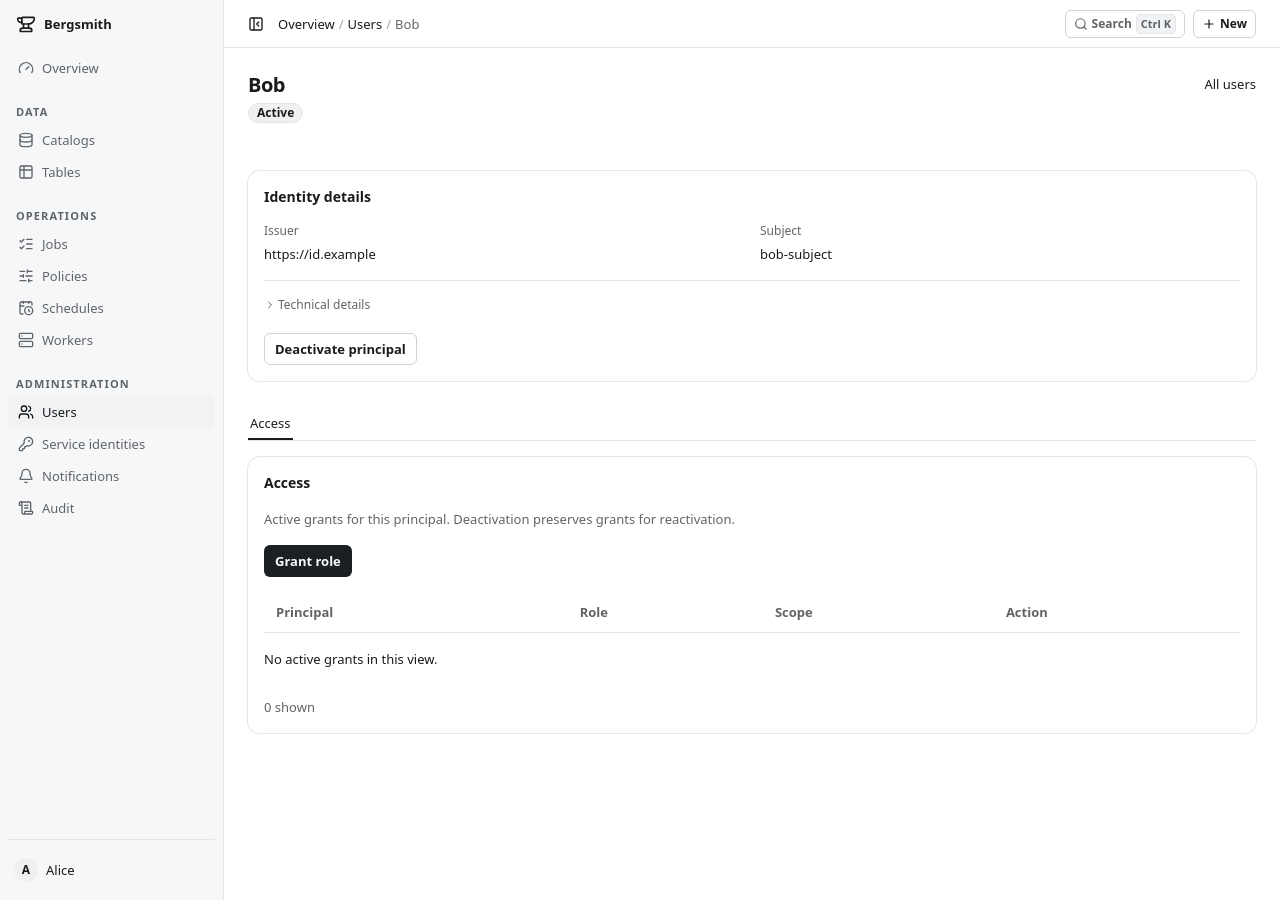
Test: requires confirmation for deactivation and preserves the last-administrator error
The width and height of the screenshot is (1280, 900).
expect the text "Technical details" is shown: met, box [264,280,1240,317]
Click the button "Deactivate principal": (340, 349) [264,333,417,365]
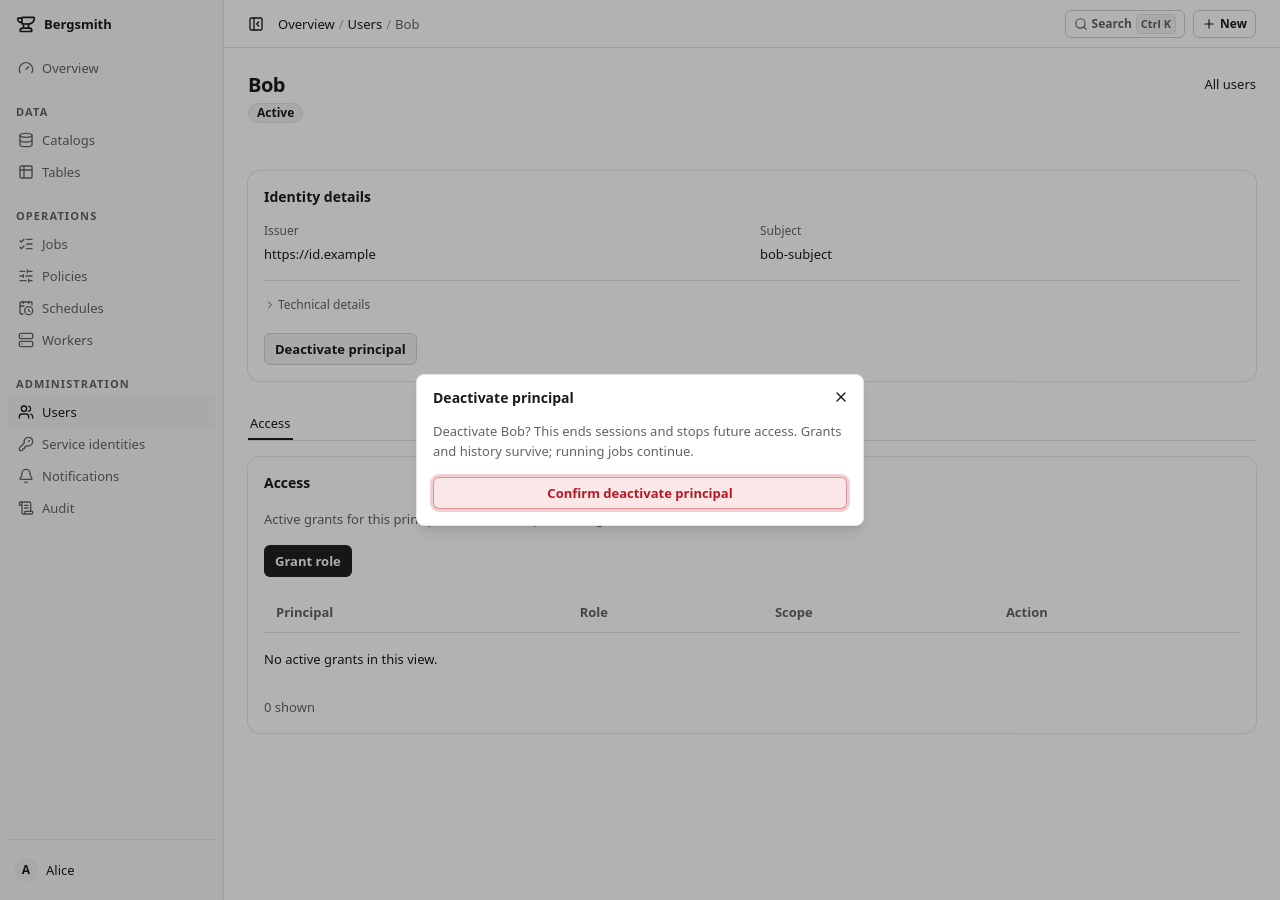
expect the dialog shows "running jobs continue": met, box [433,422,842,460]
Click the button "Confirm deactivate principal": (640, 493) [433,477,847,509]
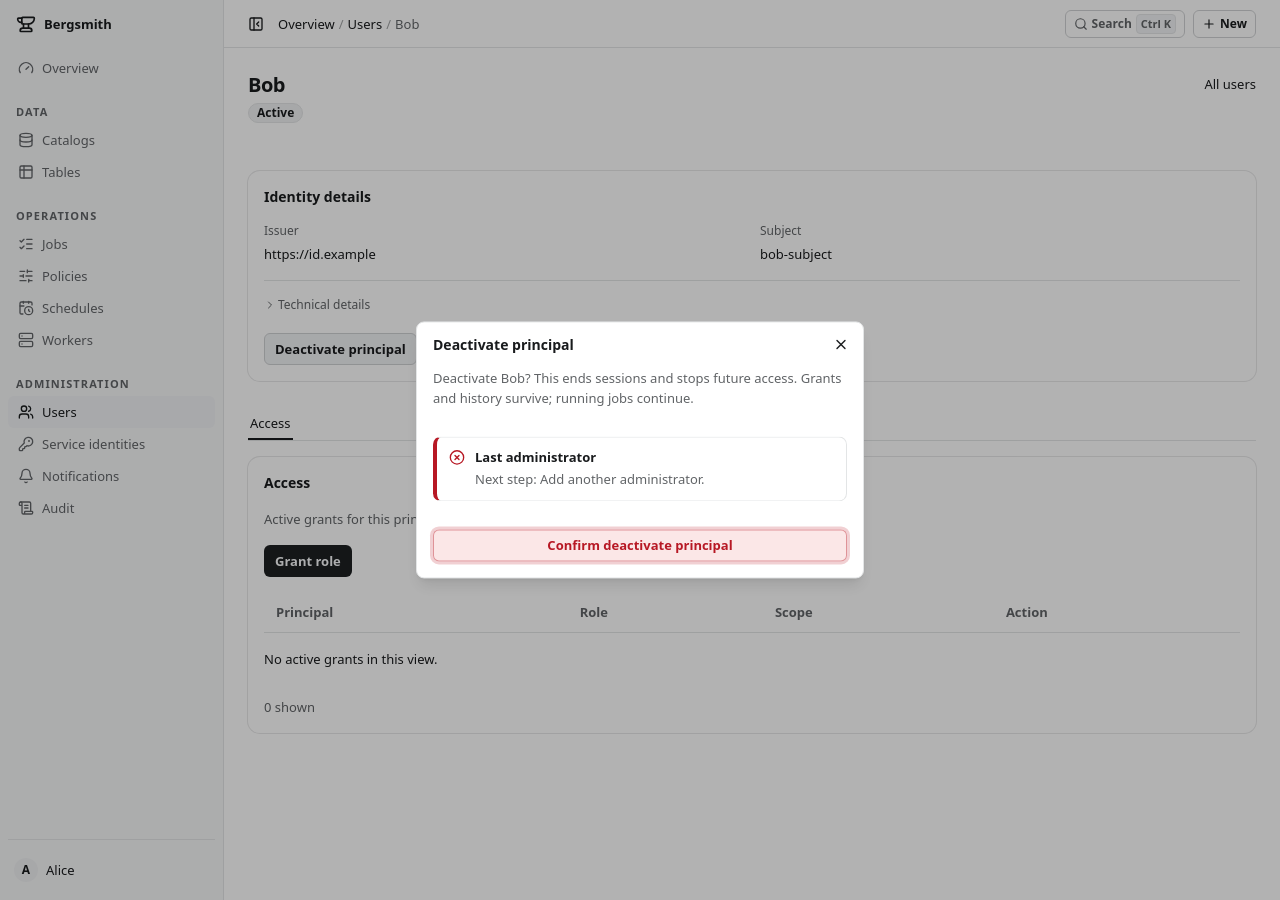
expect the message shows "Last administrator": met, box [475,448,596,466]
